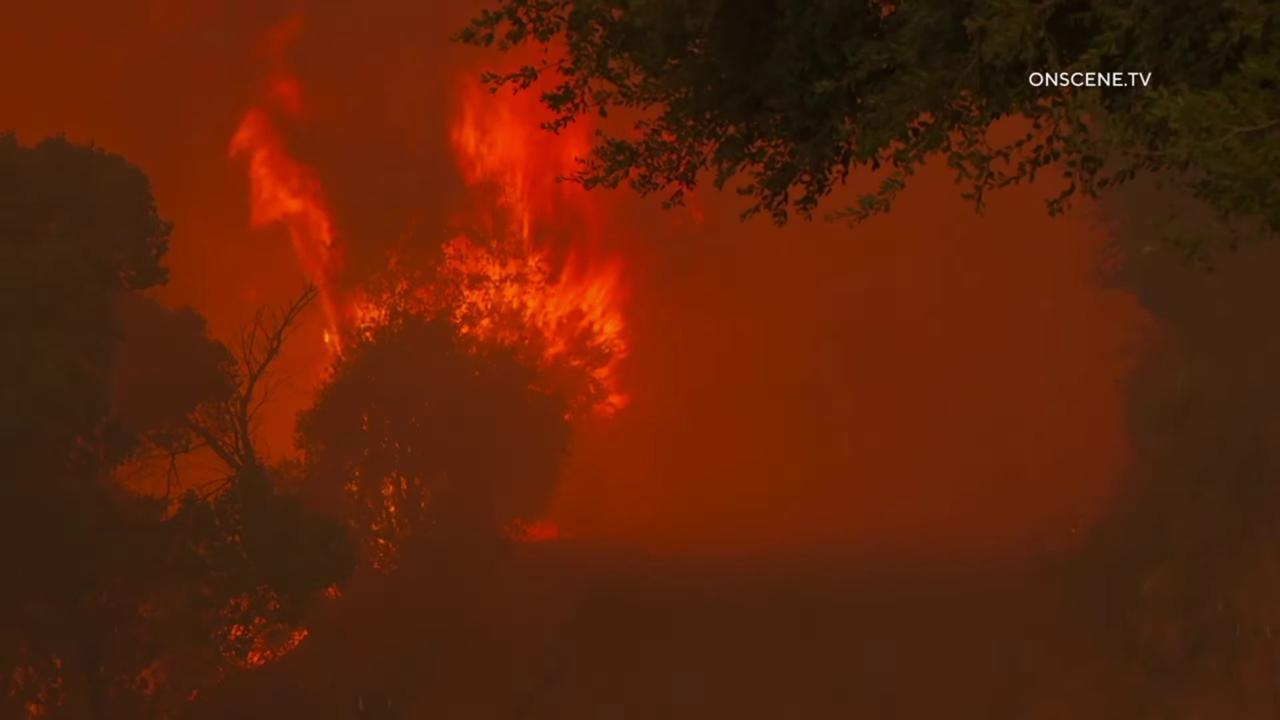fire: (224, 0, 649, 428), (212, 583, 314, 676), (317, 583, 343, 606)
smoke: (0, 0, 1280, 720)
